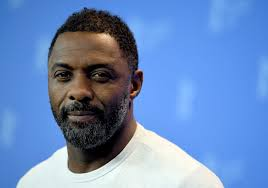person: (46, 7, 144, 150)
